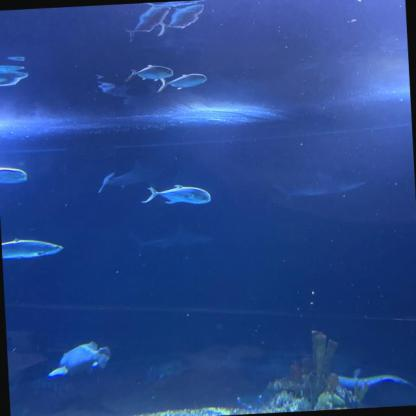fish: (46, 339, 114, 384), (145, 182, 214, 210), (2, 236, 65, 264), (149, 6, 210, 34), (124, 5, 171, 38), (159, 73, 210, 94), (0, 58, 29, 90), (127, 65, 173, 83), (0, 166, 32, 187), (154, 0, 214, 9), (406, 94, 412, 126)
shark: (273, 168, 374, 199), (128, 224, 215, 254), (96, 156, 169, 191)
